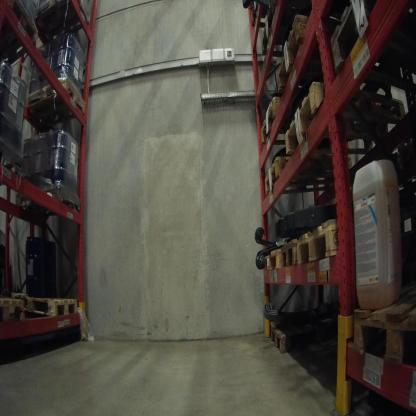pallet: (282, 85, 410, 160), (326, 1, 414, 78), (264, 150, 364, 204), (274, 12, 326, 96), (24, 69, 96, 129), (355, 297, 414, 364), (269, 312, 340, 360), (31, 1, 98, 49), (296, 214, 350, 272), (9, 288, 82, 327), (17, 186, 84, 227), (263, 1, 304, 59), (1, 2, 38, 60), (258, 94, 296, 150), (2, 144, 25, 187), (247, 2, 272, 31), (1, 299, 26, 326), (280, 240, 298, 273), (260, 247, 282, 274)
